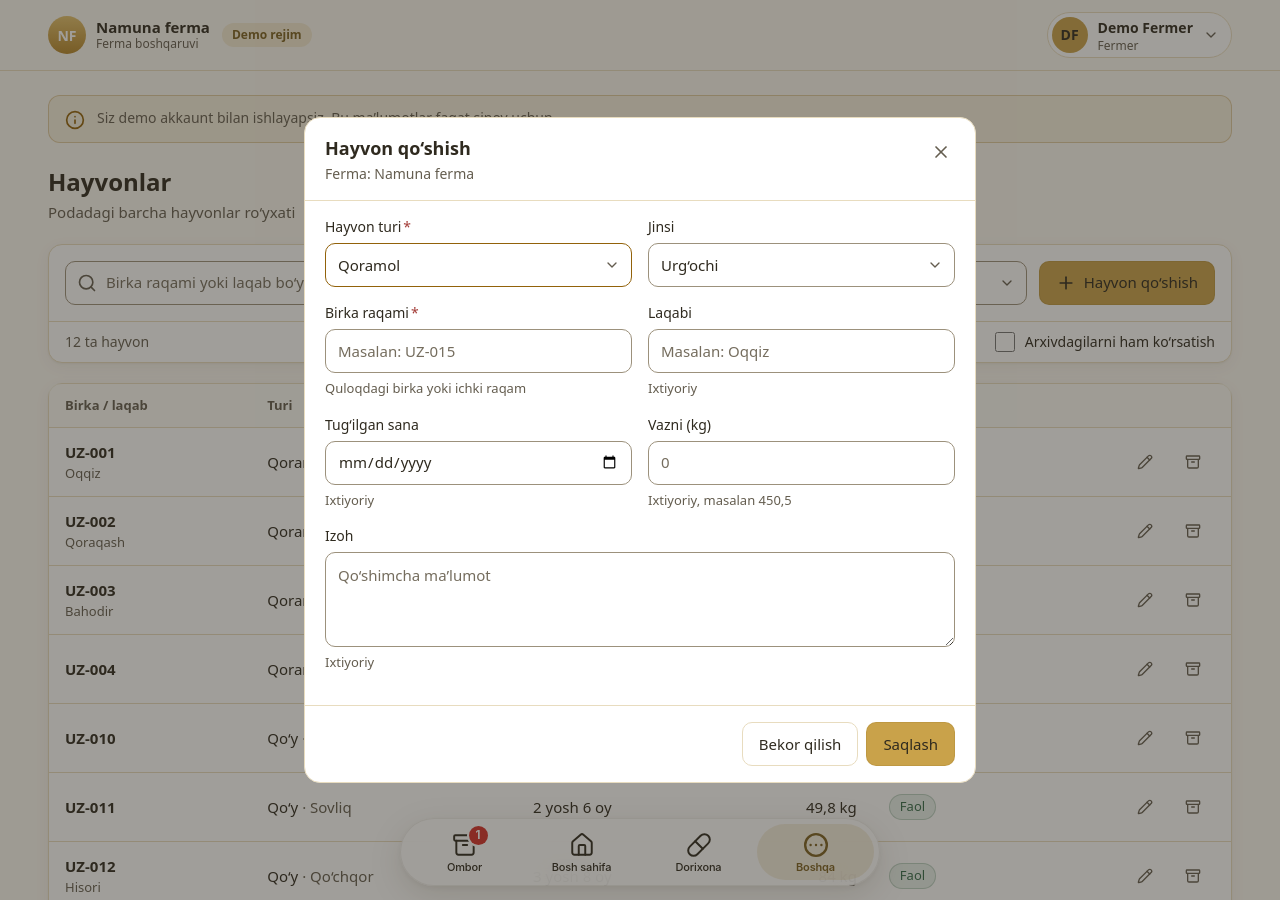
Test: animals › validates input and maps a duplicate tag to the field
This screenshot has width=1280, height=900.
Type "6000" into the field labelled "Vazni (kg)" at (802, 463), box [648,441,955,485]
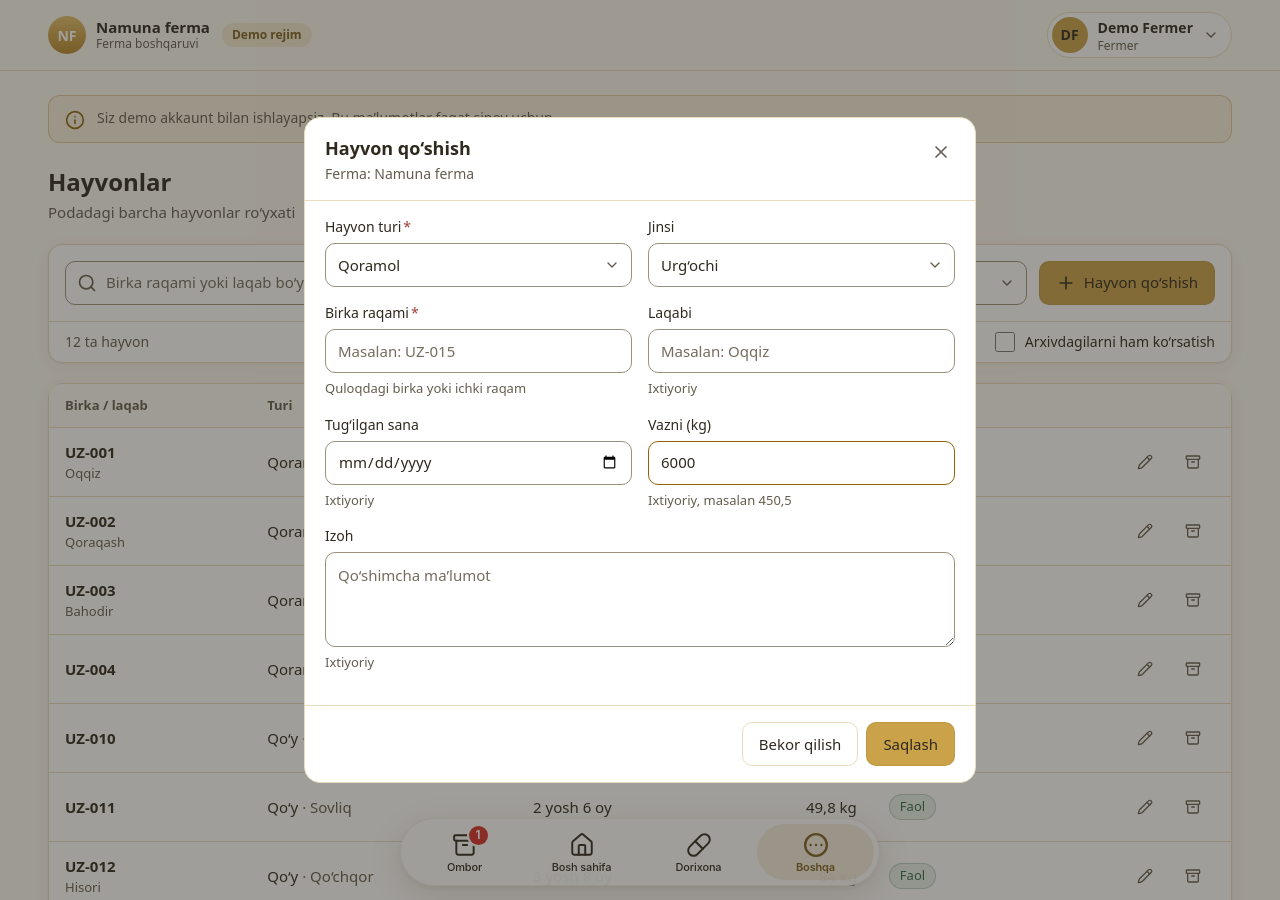
Click the button "Saqlash" at (911, 744), box [866,722,955,766]
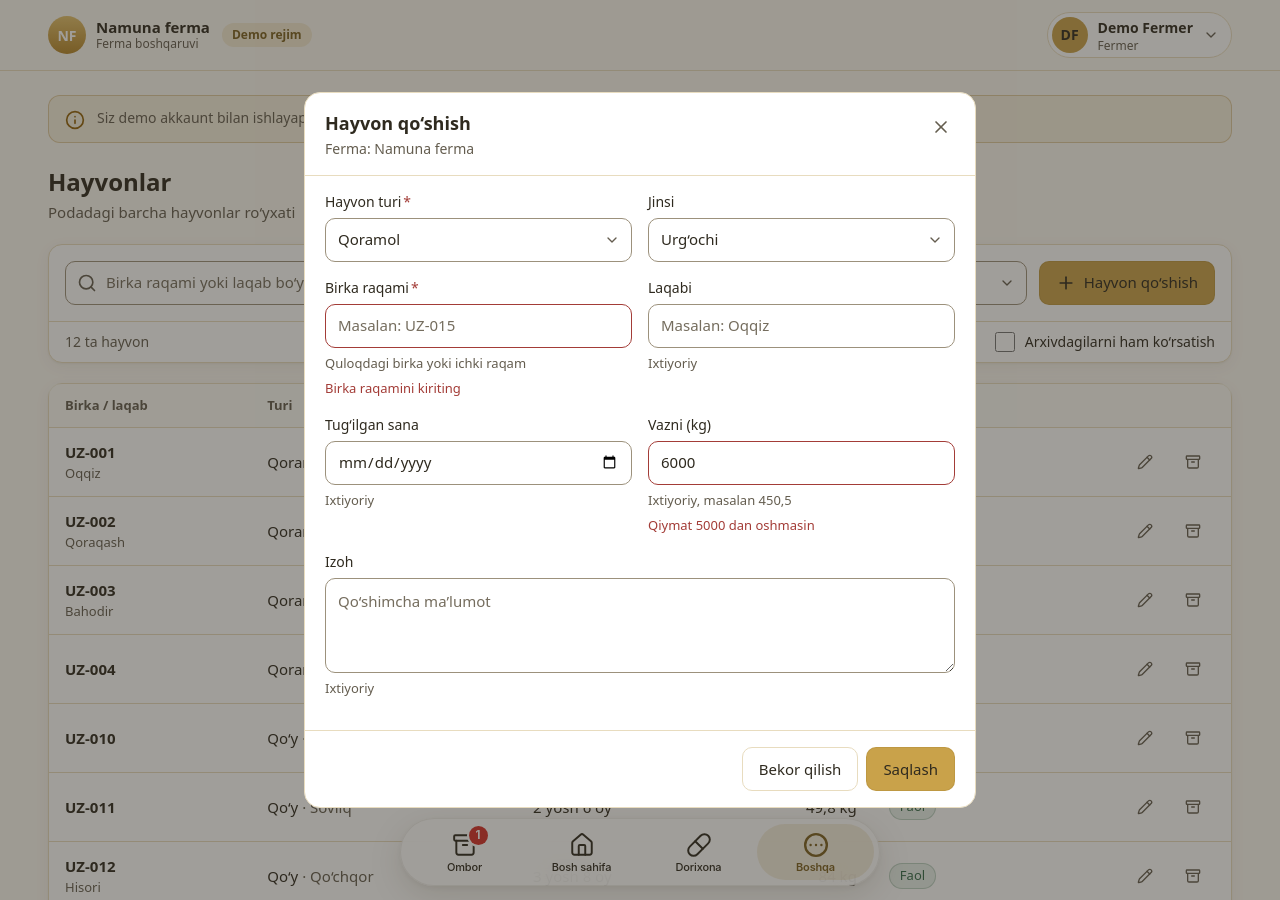
Now the text "Birka raqamini kiriting" is shown, box [325,379,461,397]
Now the text "Qiymat 5000 dan oshmasin" is shown, box [648,516,815,534]
Type "UZ-001" into the field labelled "Birka raqami*" at (478, 326), box [325,304,632,348]
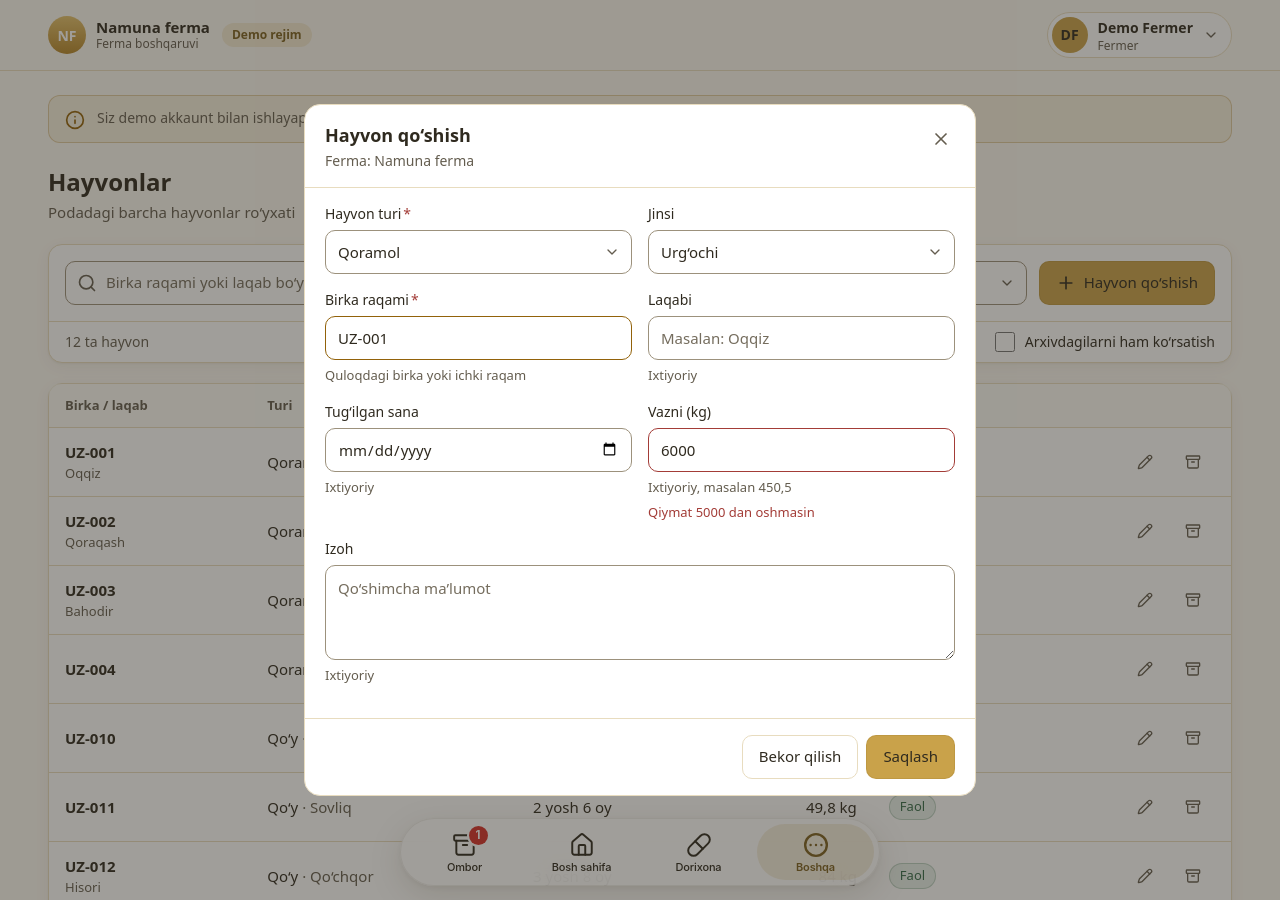
Clear the field labelled "Vazni (kg)" at (802, 450), box [648,428,955,472]
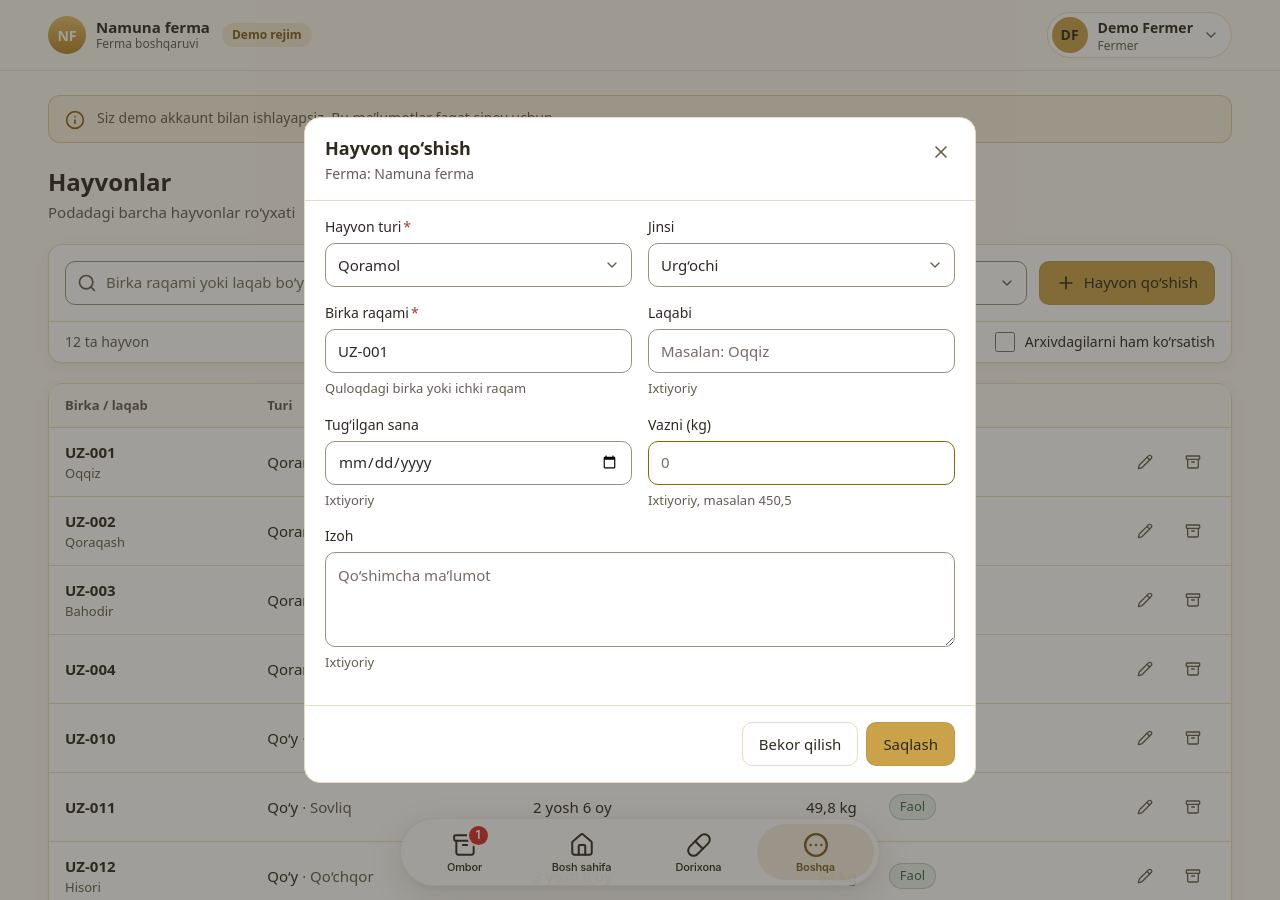
Click the button "Saqlash" at (911, 744), box [866,722,955,766]
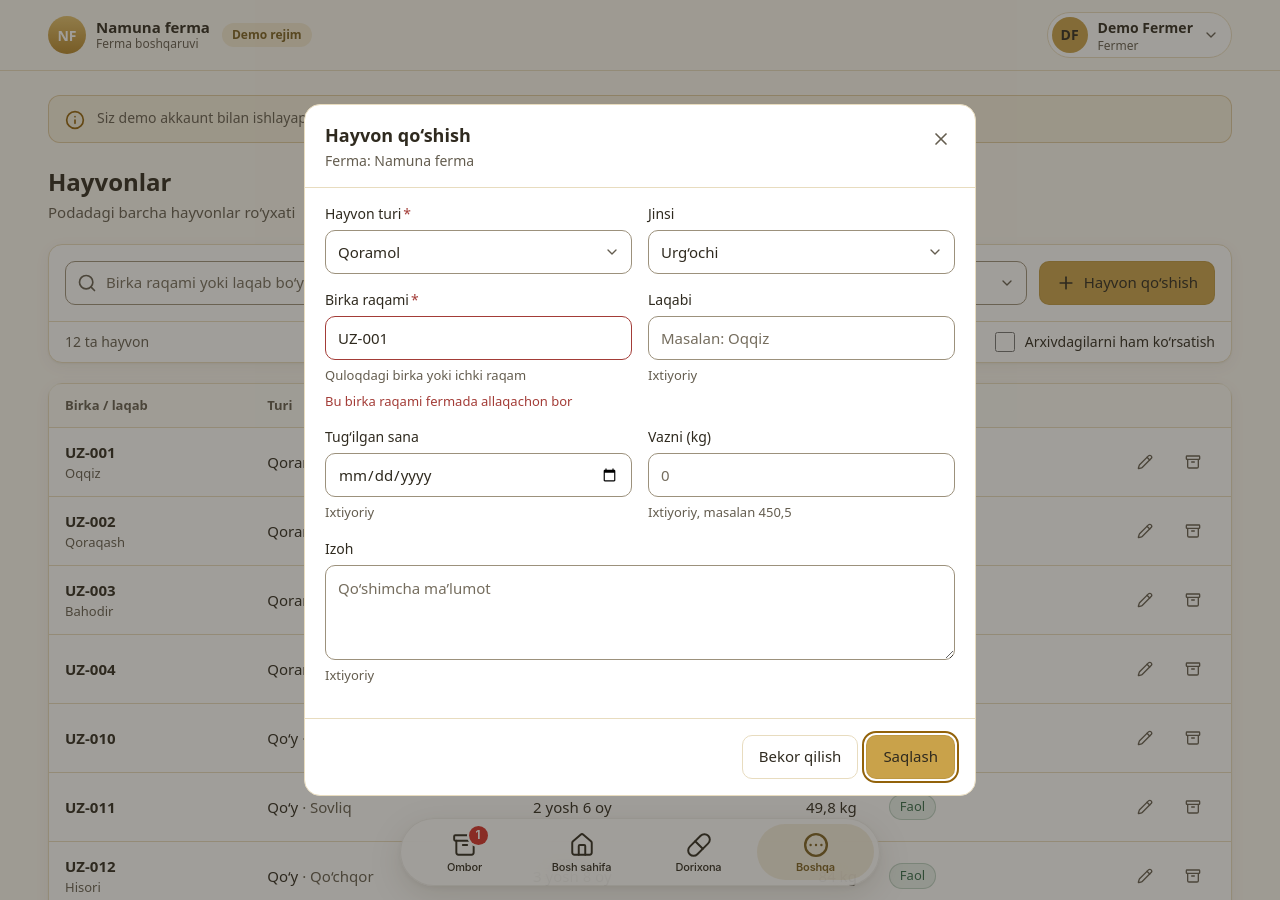
Now the text "Bu birka raqami fermada allaqachon bor" is shown, box [325,392,572,410]
